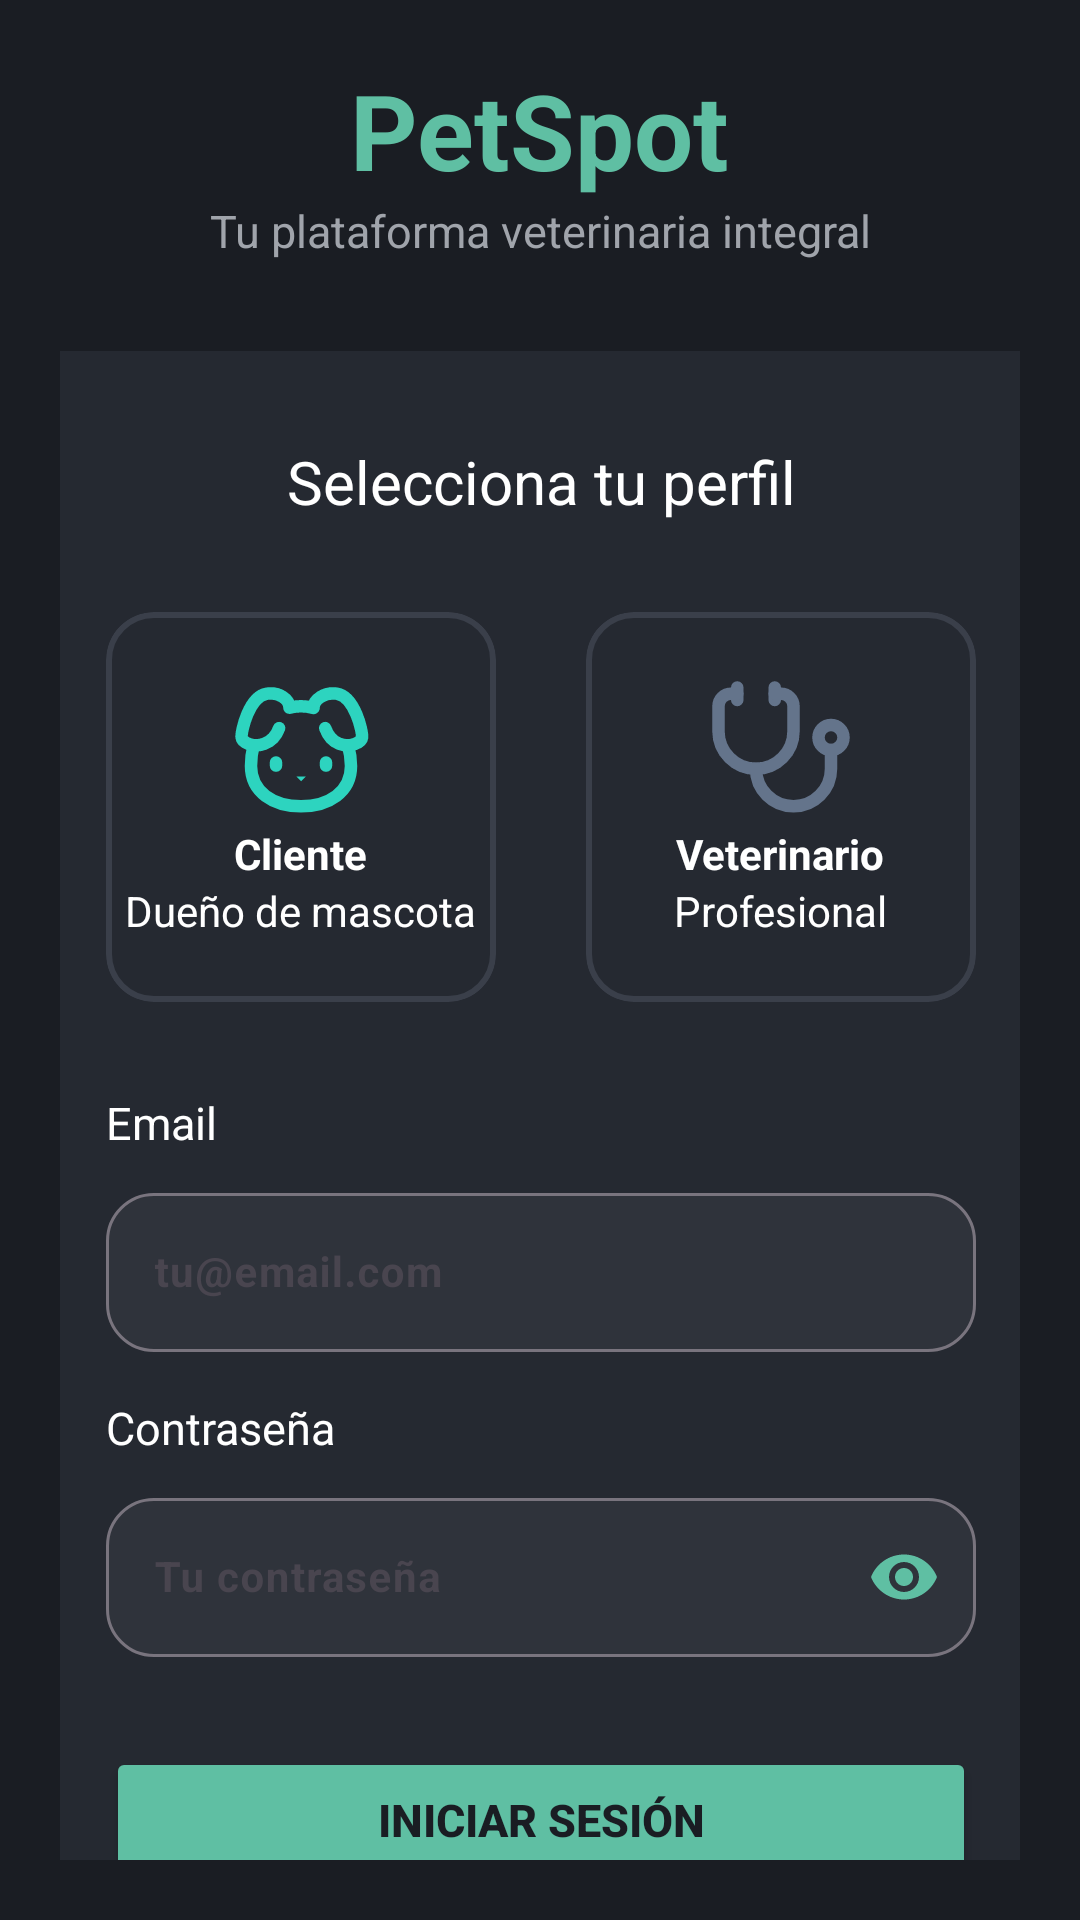

Icons on this 1080 x 1920 Android screen, each with the point to tap as (x=x, y=y):
dog: (x=302, y=750)
stethoscope: (x=781, y=747)
